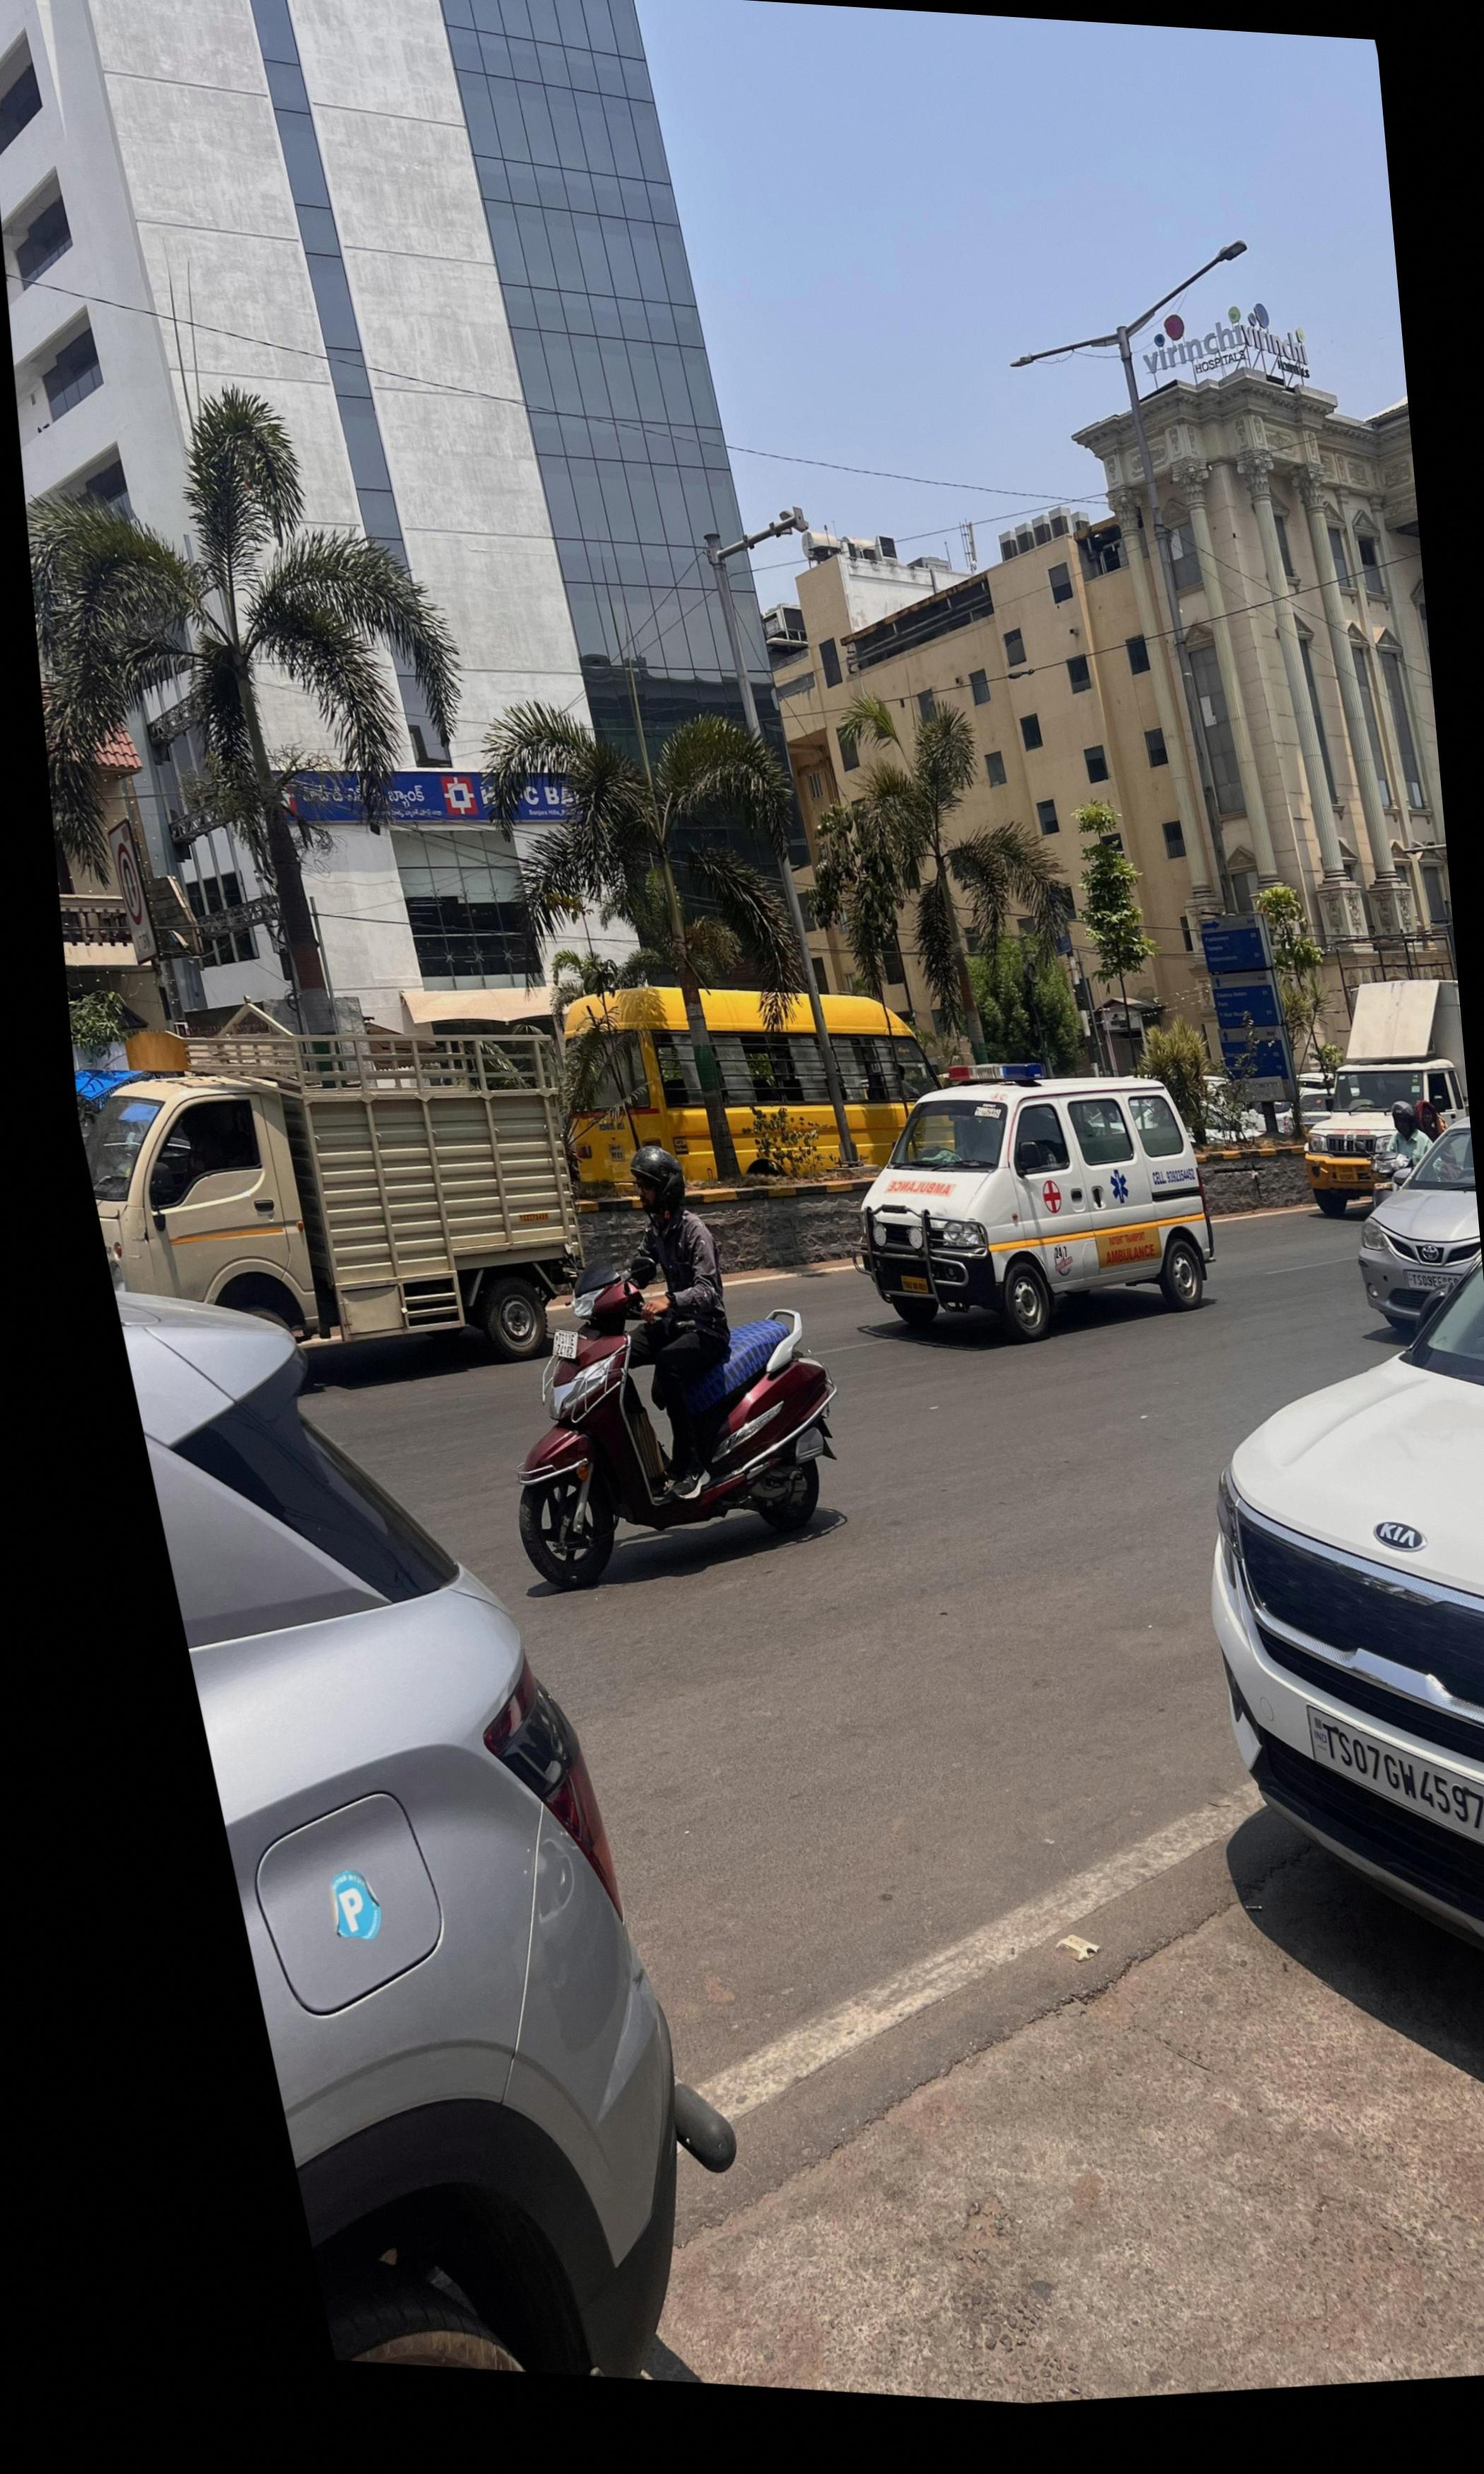ambulance: (850, 1062, 1217, 1336)
